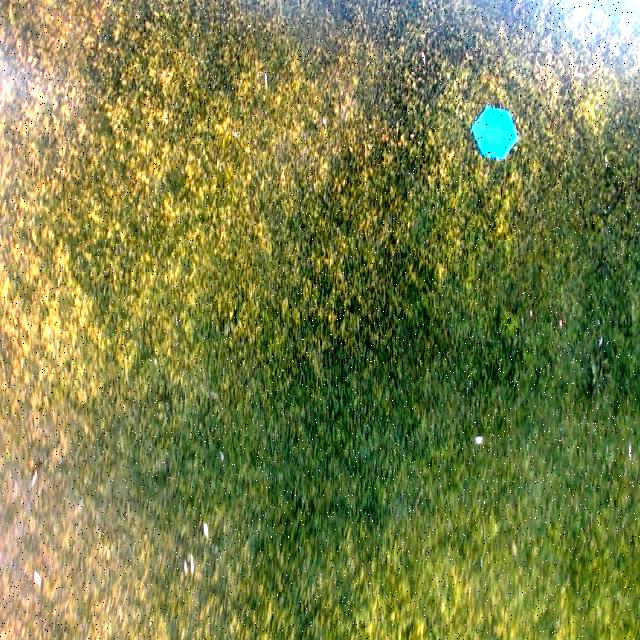blue_hexagon: (471, 106, 518, 162)
